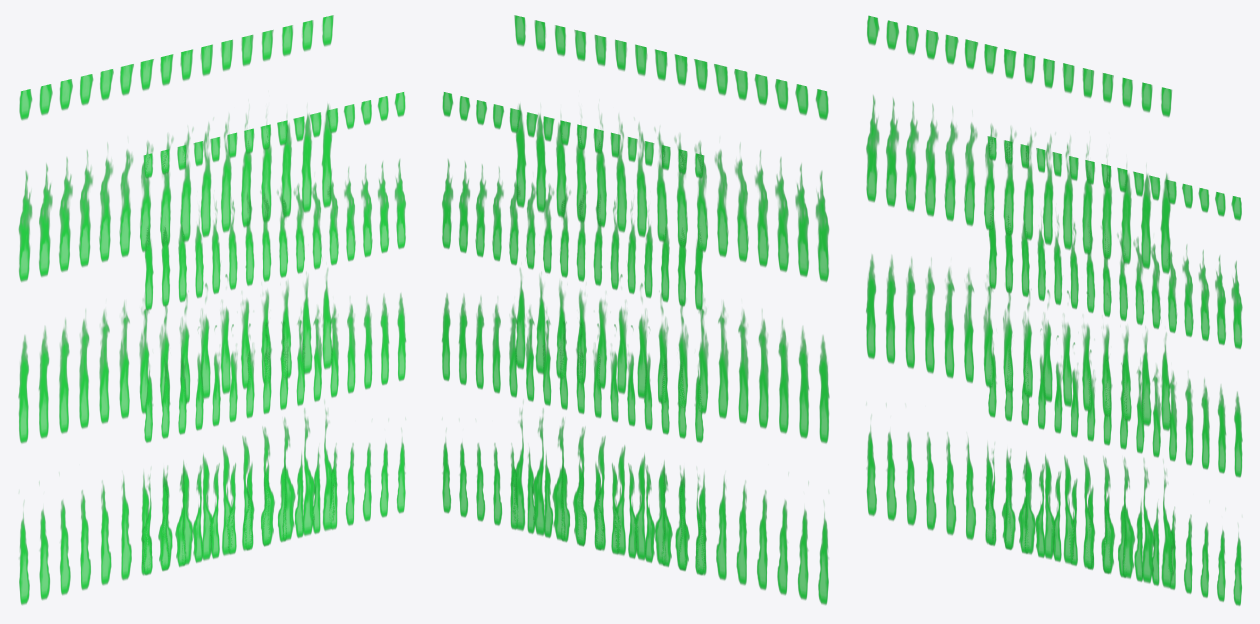
The model's file is mm9_deco_pentafire_green.glb.
The picture shows the model from 3 angles, left to right: view 1: azimuth 30°, elevation 25°; view 2: azimuth 150°, elevation 25°; view 3: azimuth 330°, elevation 25°; orthographic projection. The views are drawn at different scales.
Parts seen in each view (by area): view 1: Pentafire_green; view 2: Pentafire_green; view 3: Pentafire_green.
Boxes of the visible parts, <box> form: Pentafire_green: <box>18,15,405,604</box>; Pentafire_green: <box>442,15,829,604</box>; Pentafire_green: <box>866,15,1242,605</box>.
Bounding box in the file's own units: 0.44 × 0.55 × 0.
1 material, 1 textured.
